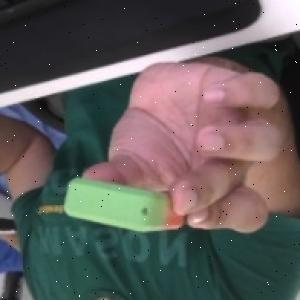Swift-E-Ciggirate: (61, 173, 196, 234)
